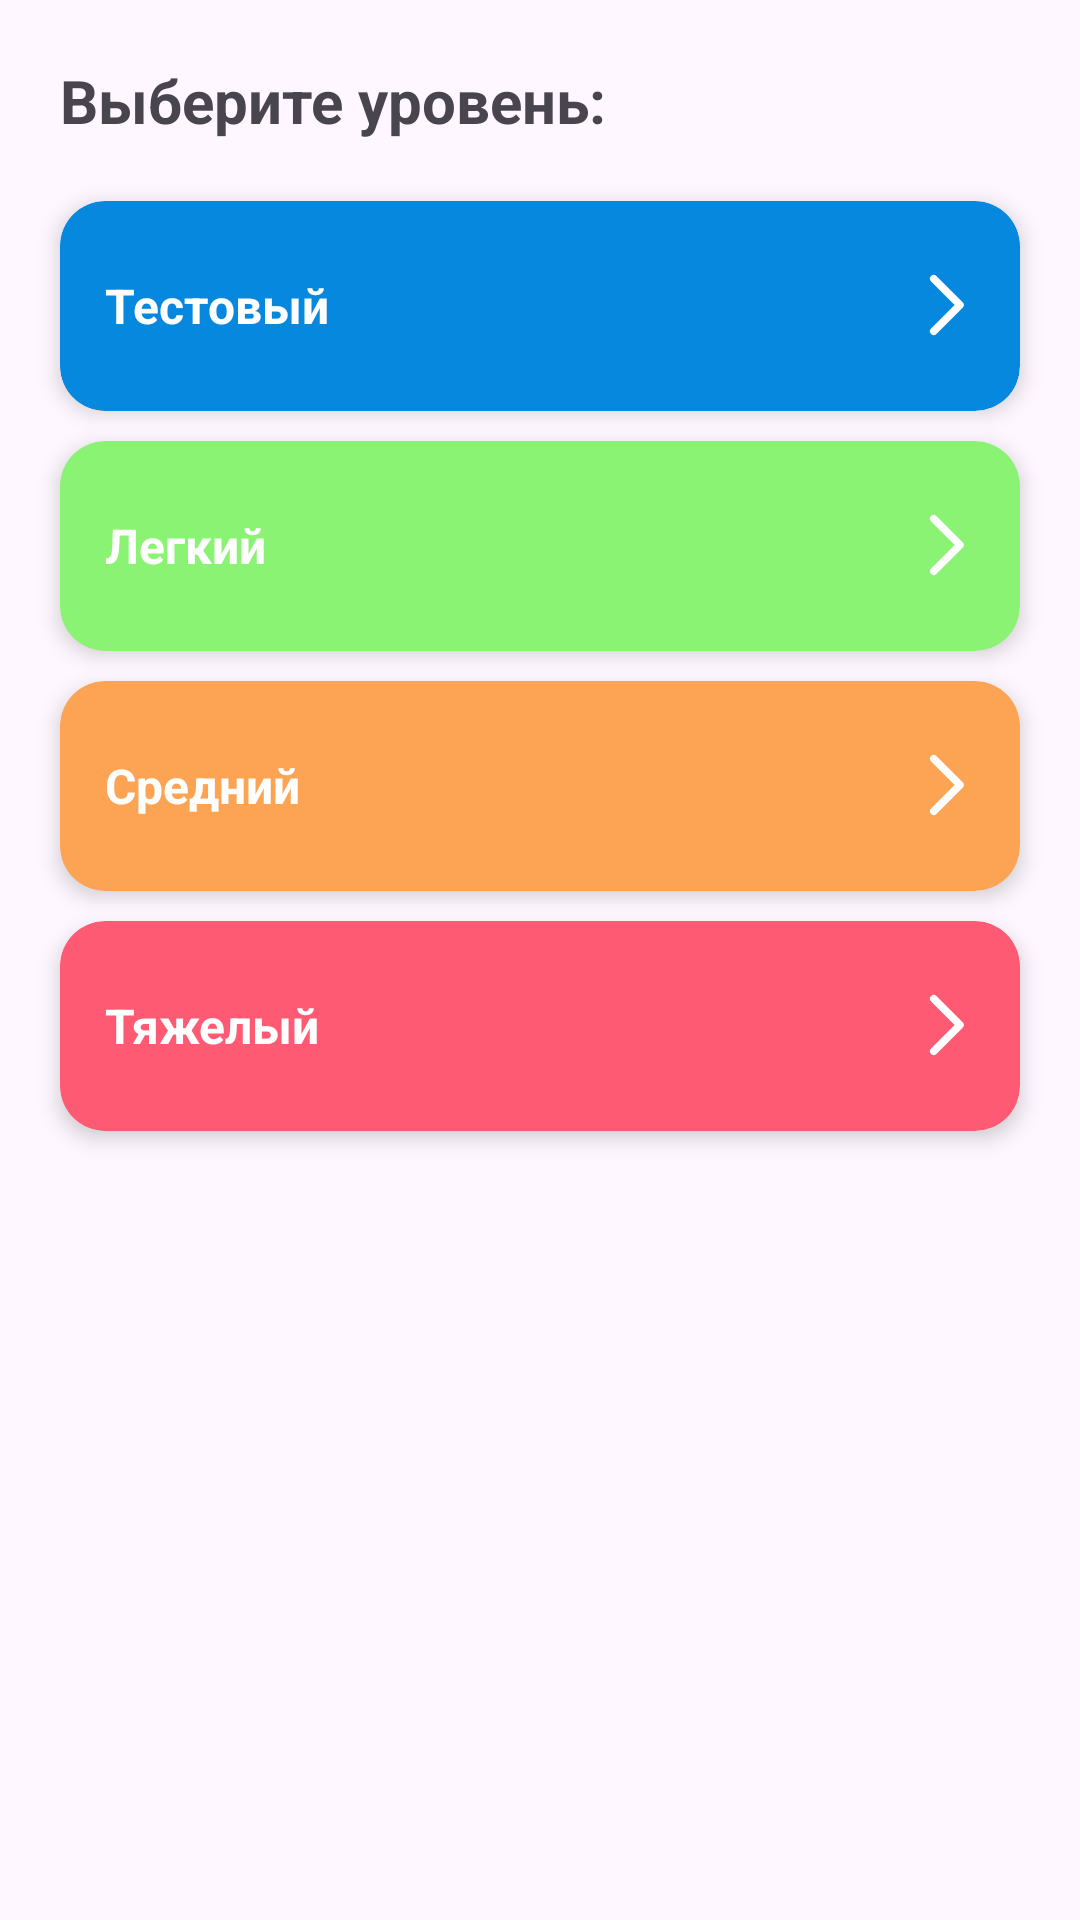

Icon bounding boxes for this 1080px x 1920px phone screenshot, format (x1, y1, x2, y2):
right arrow: (929, 274, 964, 336), (930, 514, 964, 576), (929, 754, 964, 816), (929, 994, 964, 1056)
